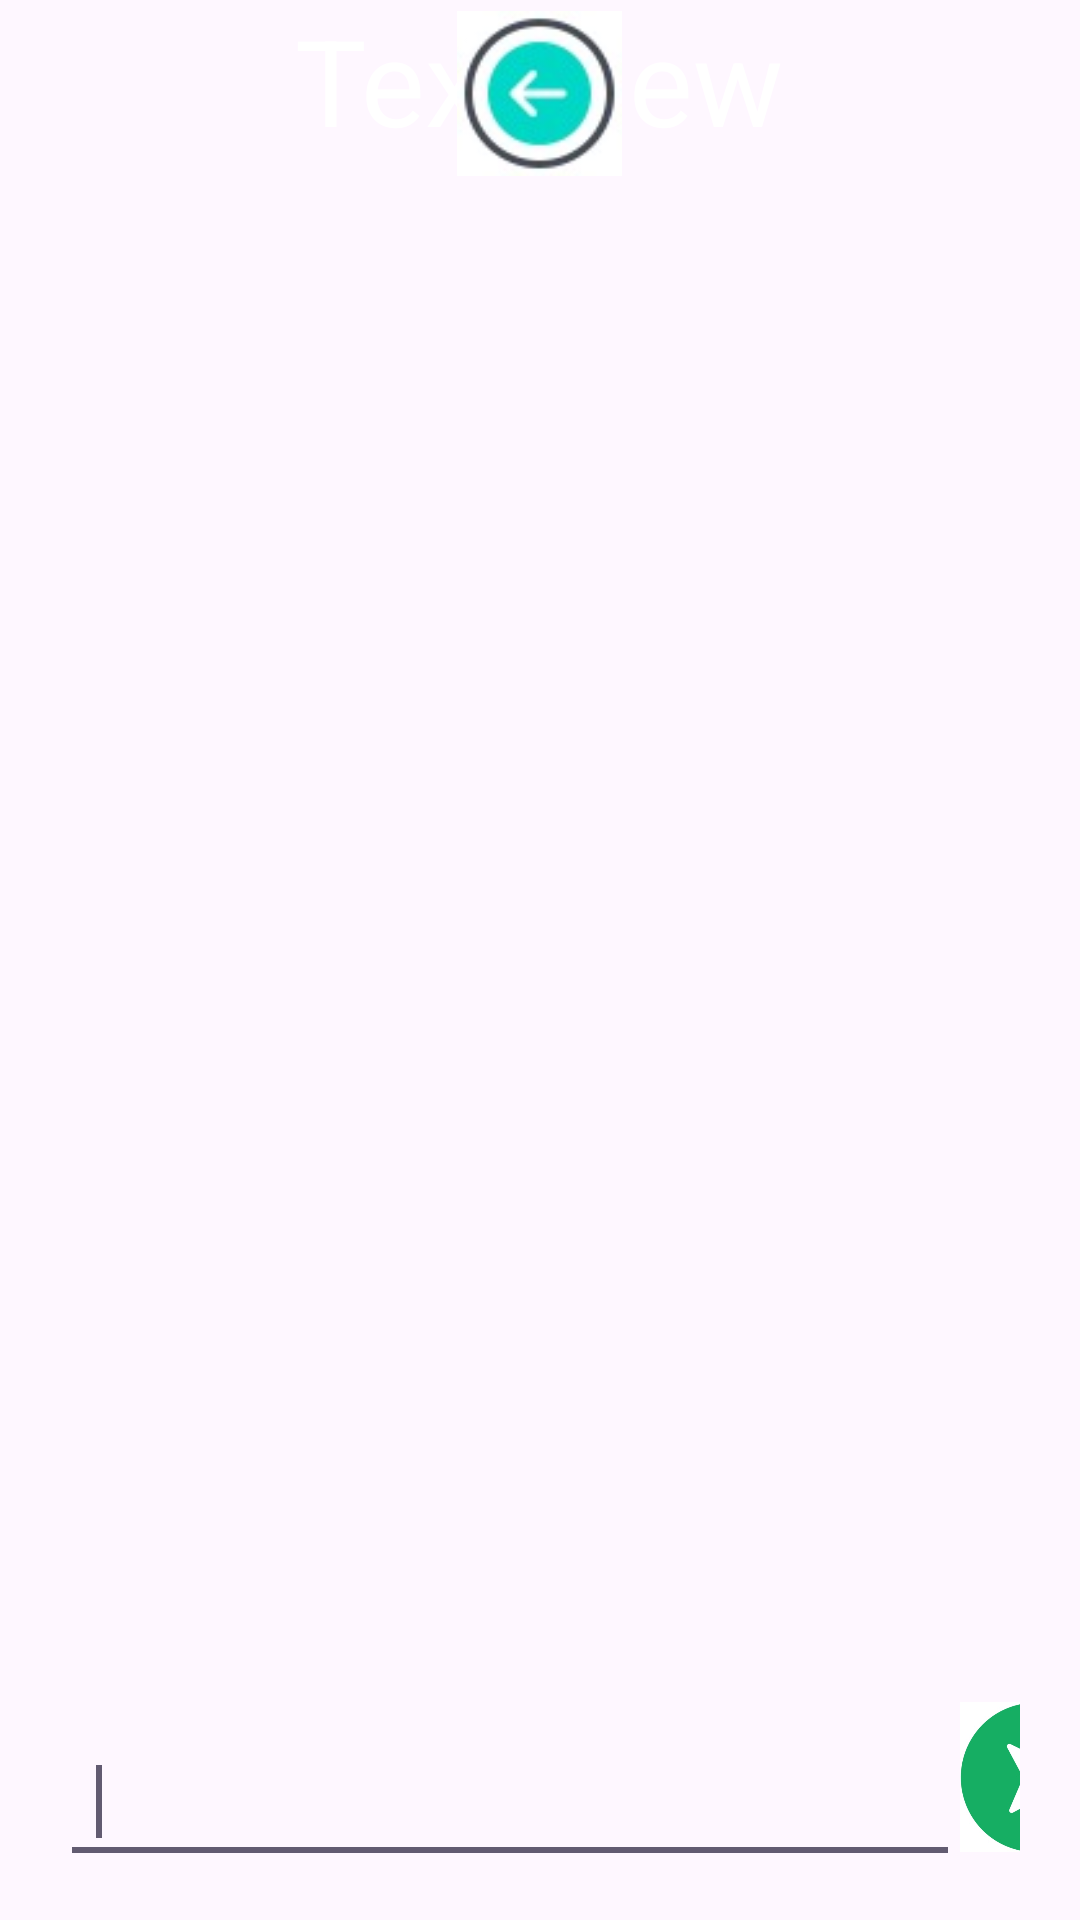

Screen size 1080w x 1920h. Icon name, then its center in pixels as point (x, y):
back: point (539, 93)
